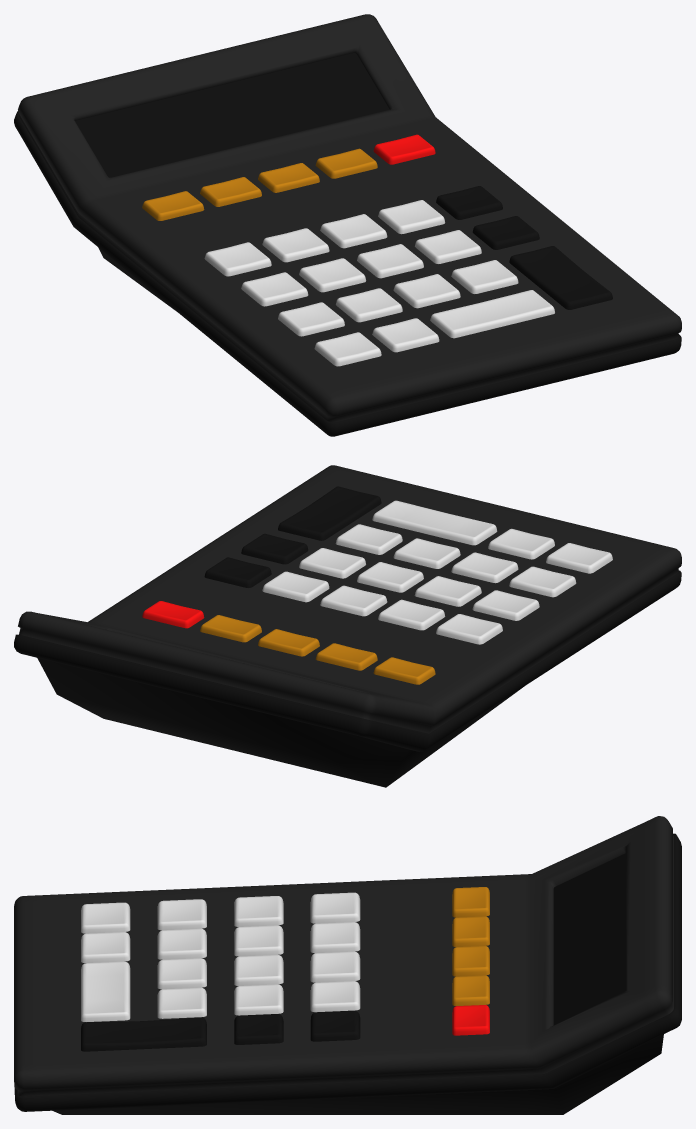
File: calculator_01.FBX
3 views of the same model, one above another, from view 1: azimuth 30°, elevation 25°; view 2: azimuth 150°, elevation 25°; view 3: azimuth 270°, elevation 25° (orthographic). The views are drawn at different scales.
Visible parts, largest first — view 1: calculator_01, calculator_01_buttons; view 2: calculator_01, calculator_01_buttons; view 3: calculator_01, calculator_01_buttons.
Part boxes in pixels (x1=…): calculator_01: x1=14, y1=14, x2=681, y2=436; calculator_01_buttons: x1=142, y1=134, x2=612, y2=366; calculator_01: x1=14, y1=465, x2=681, y2=787; calculator_01_buttons: x1=142, y1=486, x2=612, y2=684; calculator_01: x1=14, y1=816, x2=681, y2=1114; calculator_01_buttons: x1=81, y1=887, x2=489, y2=1051.
Bounding box in the file's own units: 1880 × 675 × 2926.
